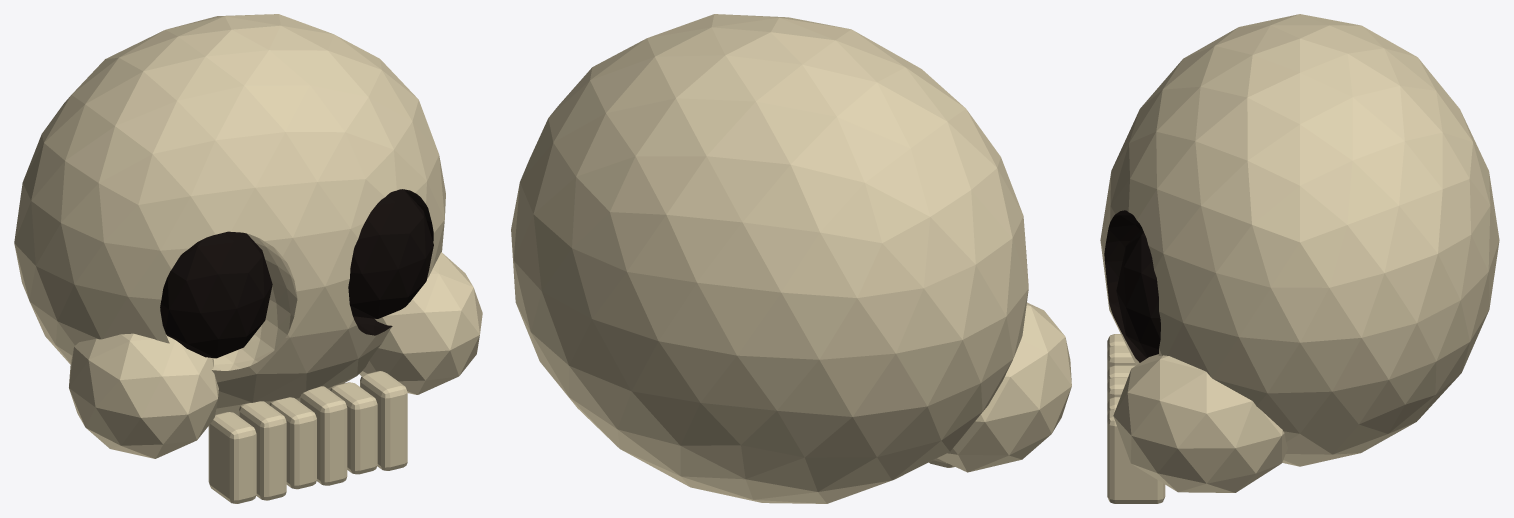
File: kit_skull.glb
The picture shows the model from 3 angles, left to right: view 1: azimuth 30°, elevation 25°; view 2: azimuth 150°, elevation 25°; view 3: azimuth 270°, elevation 25°; orthographic projection. The views are drawn at different scales.
Parts seen in each view (by area): view 1: Carved bone skull, Bone cheek, Socket darkness, Bone cheek.001, Socket darkness.001, Skull upper tooth, Skull upper tooth.005, Skull upper tooth.001, Skull upper tooth.003, Skull upper tooth.004, Skull upper tooth.002; view 2: Carved bone skull, Bone cheek; view 3: Carved bone skull, Bone cheek.001, Socket darkness.001, Skull upper tooth.005, Skull upper tooth.001.
Boxes of the visible parts, <box> form: Carved bone skull: <box>14,14,445,415</box>; Bone cheek: <box>69,333,218,458</box>; Socket darkness: <box>160,231,272,358</box>; Bone cheek.001: <box>359,252,482,394</box>; Socket darkness.001: <box>348,189,433,318</box>; Skull upper tooth: <box>208,412,256,503</box>; Skull upper tooth.005: <box>360,371,407,470</box>; Skull upper tooth.001: <box>239,401,286,500</box>; Skull upper tooth.003: <box>299,386,347,485</box>; Skull upper tooth.004: <box>330,382,377,474</box>; Skull upper tooth.002: <box>269,397,316,489</box>; Carved bone skull: <box>511,14,1028,503</box>; Bone cheek: <box>937,302,1071,472</box>; Carved bone skull: <box>1100,14,1499,466</box>; Bone cheek.001: <box>1113,354,1287,492</box>; Socket darkness.001: <box>1116,228,1160,358</box>; Skull upper tooth.005: <box>1107,408,1165,503</box>; Skull upper tooth.001: <box>1107,345,1135,371</box>.
Size of the model in its own units: 0.7779 by 0.7478 by 0.6411.
